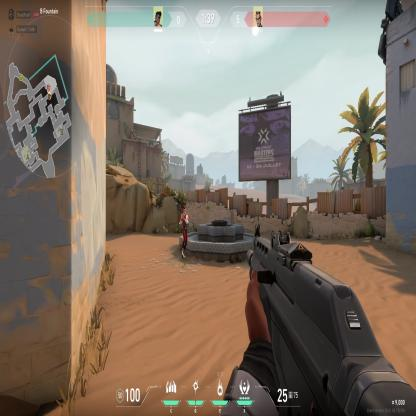enemy: (179, 206, 189, 260)
